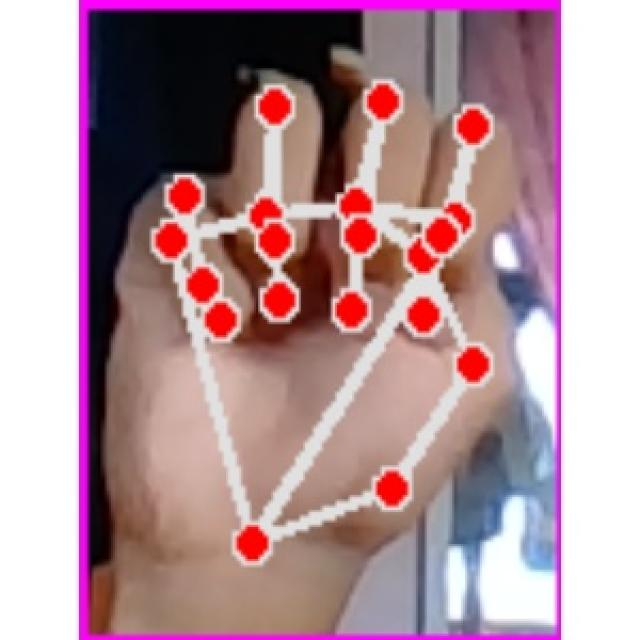M: (110, 70, 538, 584)
